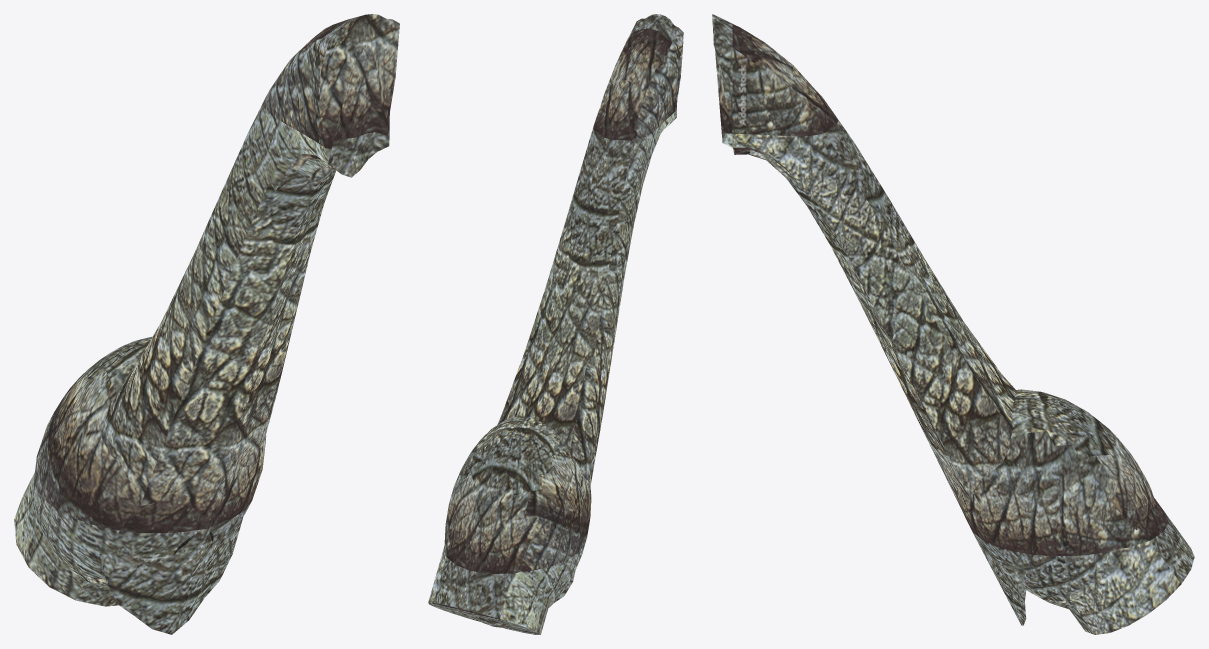
The model's file is Cuello_JCA.obj.
The picture shows the model from 3 angles, left to right: view 1: azimuth 30°, elevation 25°; view 2: azimuth 150°, elevation 25°; view 3: azimuth 270°, elevation 25°; orthographic projection. The views are drawn at different scales.
Parts seen in each view (by area): view 1: Cuello; view 2: Cuello; view 3: Cuello.
Part boxes in pixels (x1,y1,x2,y2): Cuello: [14, 14, 399, 634]; Cuello: [428, 14, 683, 634]; Cuello: [712, 14, 1194, 634].
Size of the model in its own units: 0.9894 by 3.88 by 2.79.
Materials: 1 (1 with a texture image).
